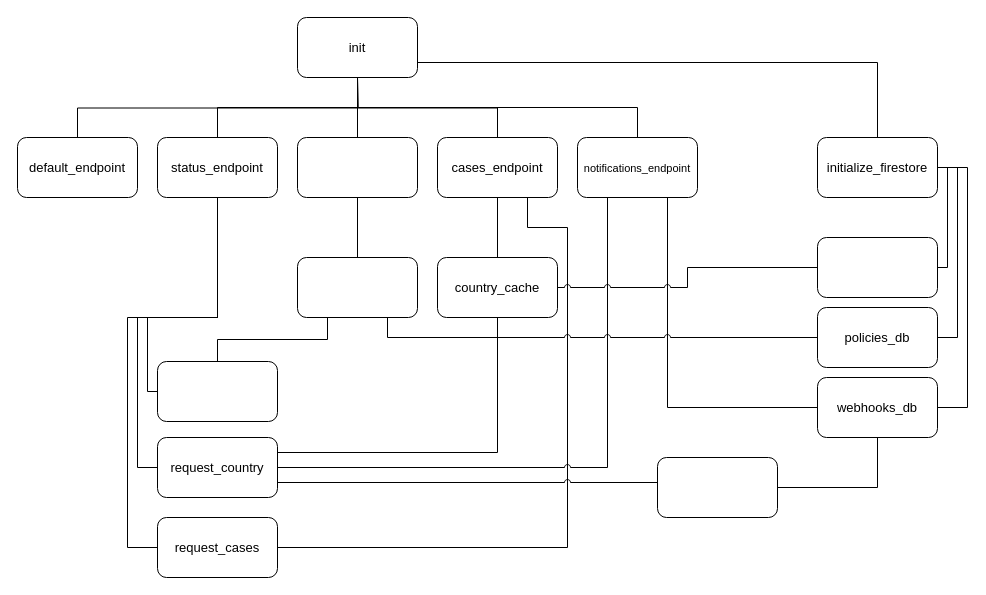
The diagram is 986 pixels wide and 595 high, and some of its shapes have lost their labels. The box of each missing label's shape, as (x1, y1, x2, y2) in pixels:
countries_db: (816, 236, 938, 298)
policy_cache: (296, 256, 418, 318)
policy_endpoint: (296, 136, 418, 198)
request_policies: (156, 360, 278, 422)
webhooks: (656, 456, 778, 518)
